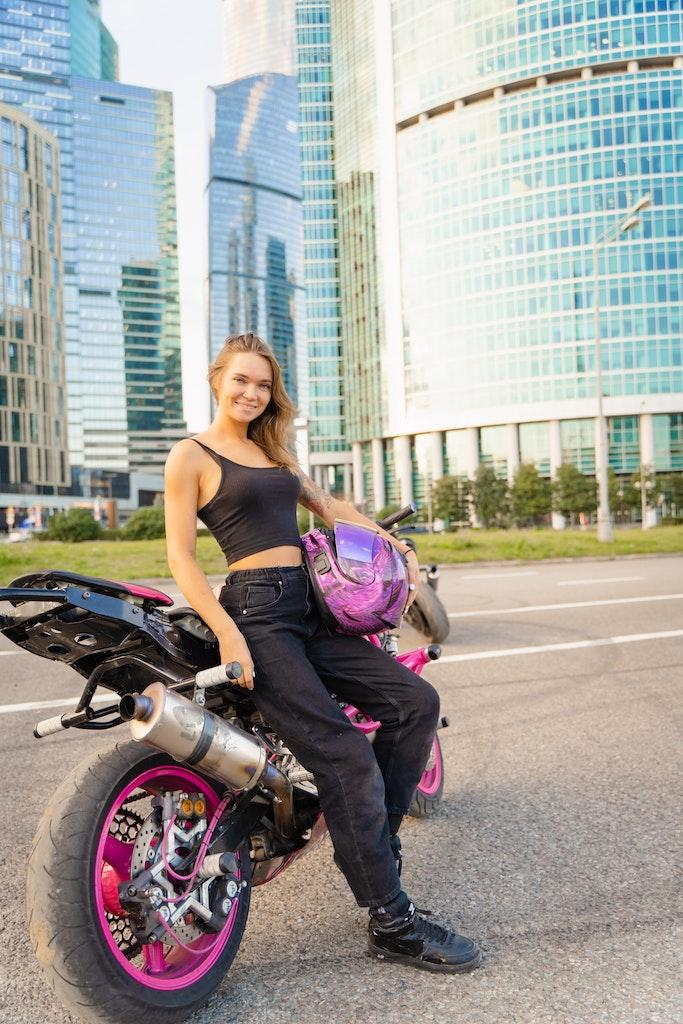helmet: (297, 516, 412, 641)
nohelmet: (207, 332, 293, 443)
